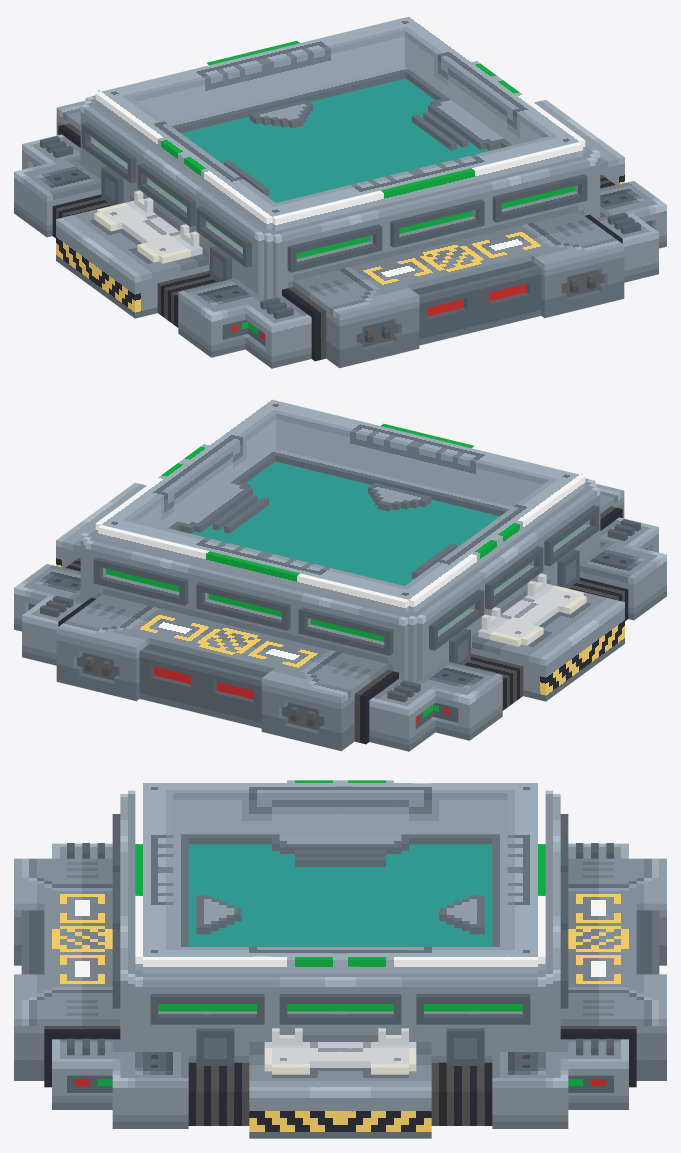
The model's file is Lord of Colosseum.gltf.
3 renders of one model, top to bottom at view 1: azimuth 30°, elevation 25°; view 2: azimuth 150°, elevation 25°; view 3: azimuth 270°, elevation 25°, orthographic. The views are drawn at different scales.
Parts seen in each view (by area): view 1: Group; view 2: Group; view 3: Group.
Part boxes in pixels (left/top/right/bottom): Group: left=14, top=14, right=666, bottom=368; Group: left=14, top=397, right=666, bottom=751; Group: left=14, top=780, right=666, bottom=1138.
Bounding box in the file's own units: 86 × 19 × 86.
Materials: 1 (1 with a texture image).
